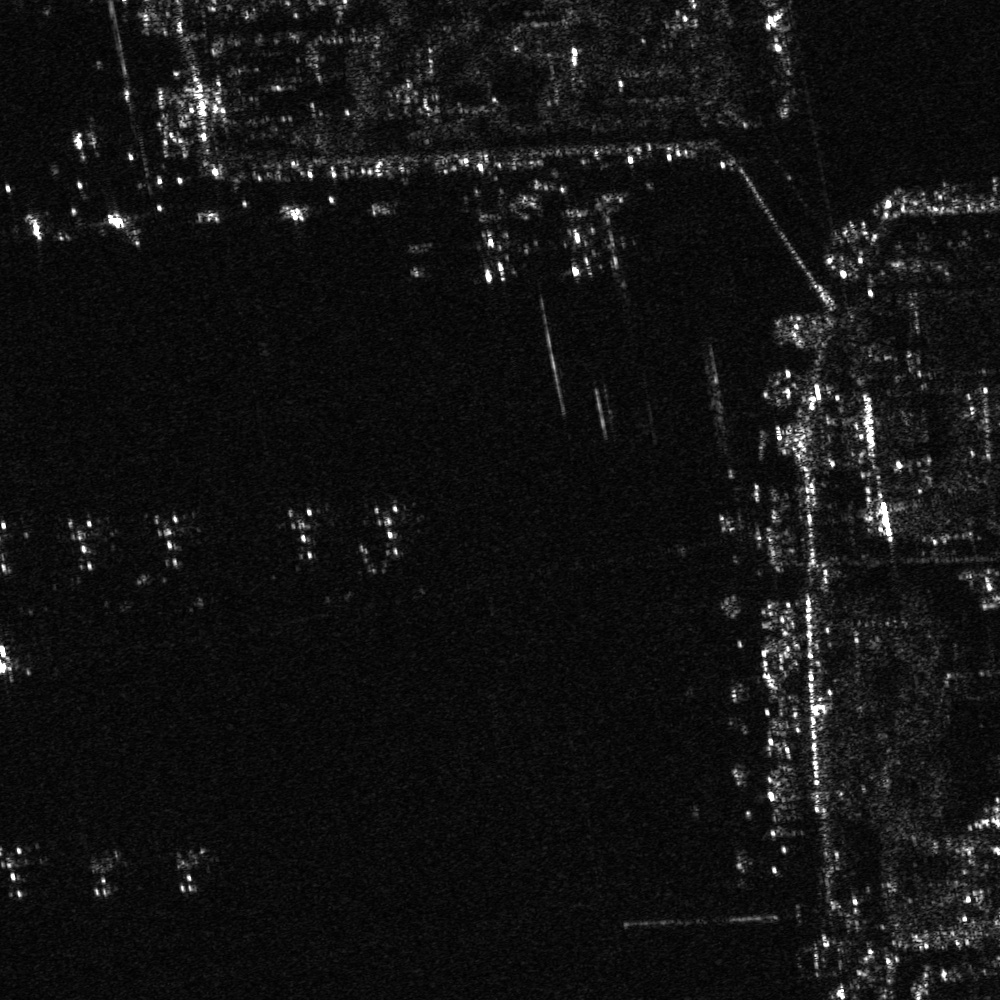A220: (84, 847, 134, 901)
A320/321: (169, 844, 216, 899)
ARJ21: (457, 207, 521, 293), (1, 842, 49, 901)
Boeing737: (550, 203, 602, 287)
other: (47, 505, 129, 583), (137, 505, 216, 580), (351, 494, 431, 568), (273, 496, 335, 568), (1, 508, 36, 579)
